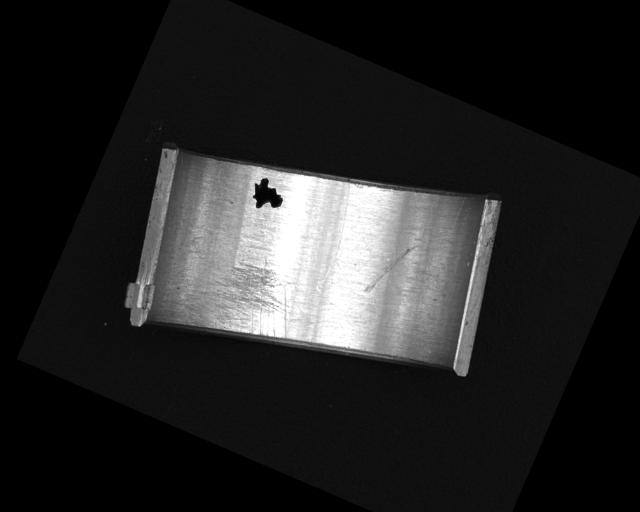blot: (245, 173, 289, 217)
nick: (304, 181, 368, 292), (362, 231, 418, 305)
scratch: (178, 234, 313, 363)
